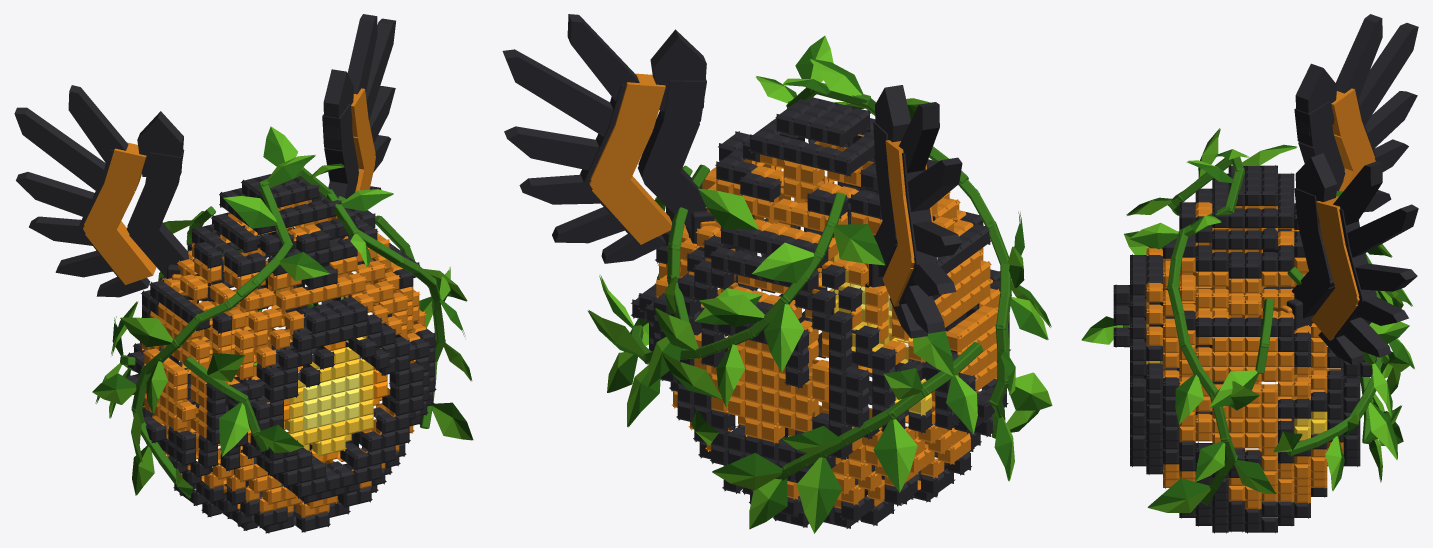
Rendered from winged_vine_egg.obj.
3 renders of one model, left to right at view 1: azimuth 30°, elevation 25°; view 2: azimuth 150°, elevation 25°; view 3: azimuth 270°, elevation 25°, orthographic. The views are drawn at different scales.
Visible parts, largest first — view 1: Armor_CharcoalPlates, Shell_OrangeBlocks, Core_Glow, LeftWing_Spine_Gold, LeftWing_InnerBorder_Charcoal, Vine_TopArch, LeftWing_Blade2, Vine_LeftSide, RightWing_InnerBorder_Charcoal, LeftWing_Blade1_Terminal, LeftWing_Blade3, RightWing_Spine_Gold (+22 smaller); view 2: Armor_CharcoalPlates, Shell_OrangeBlocks, RightWing_Spine_Gold, RightWing_InnerBorder_Charcoal, RightWing_Blade2, Vine_LeftSide, LeftWing_Spine_Gold, Vine_Back, Vine_BackLow, RightWing_Blade3, RightWing_Blade1_Terminal, RightWing_InnerFin (+40 smaller); view 3: Armor_CharcoalPlates, Shell_OrangeBlocks, Vine_TopArch, RightWing_Spine_Gold, RightWing_InnerBorder_Charcoal, LeftWing_Spine_Gold, LeftWing_Blade2, LeftWing_InnerBorder_Charcoal, LeftWing_Blade1_Terminal, RightWing_Blade2, LeftWing_InnerFin, RightWing_Blade1_Terminal (+28 smaller).
Boxes of the visible parts, x1,y1,x2,y2 form: Armor_CharcoalPlates: [125, 174, 436, 533]; Shell_OrangeBlocks: [142, 199, 426, 517]; Core_Glow: [284, 341, 388, 462]; LeftWing_Spine_Gold: [83, 142, 156, 284]; LeftWing_InnerBorder_Charcoal: [126, 149, 189, 278]; Vine_TopArch: [236, 167, 445, 428]; LeftWing_Blade2: [14, 107, 105, 190]; Vine_LeftSide: [131, 257, 279, 483]; RightWing_InnerBorder_Charcoal: [322, 104, 358, 198]; LeftWing_Blade1_Terminal: [68, 85, 128, 162]; LeftWing_Blade3: [16, 172, 94, 216]; RightWing_Spine_Gold: [351, 88, 375, 191]; Armor_CharcoalPlates: [631, 97, 1010, 528]; Shell_OrangeBlocks: [655, 134, 1000, 508]; RightWing_Spine_Gold: [589, 73, 671, 244]; RightWing_InnerBorder_Charcoal: [638, 79, 707, 230]; RightWing_Blade2: [502, 49, 613, 136]; Vine_LeftSide: [929, 155, 1011, 438]; LeftWing_Spine_Gold: [882, 140, 937, 306]; Vine_Back: [631, 192, 845, 364]; Vine_BackLow: [775, 342, 983, 480]; RightWing_Blade3: [504, 126, 599, 170]; RightWing_Blade1_Terminal: [567, 14, 639, 101]; RightWing_InnerFin: [650, 29, 706, 111]; Armor_CharcoalPlates: [1113, 165, 1376, 533]; Shell_OrangeBlocks: [1146, 202, 1343, 517]; Vine_TopArch: [1167, 156, 1244, 505]; RightWing_Spine_Gold: [1311, 196, 1359, 340]; RightWing_InnerBorder_Charcoal: [1292, 188, 1334, 318]; LeftWing_Spine_Gold: [1331, 88, 1375, 191]; LeftWing_Blade2: [1358, 23, 1418, 125]; LeftWing_InnerBorder_Charcoal: [1294, 101, 1345, 191]; LeftWing_Blade1_Terminal: [1336, 14, 1382, 98]; RightWing_Blade2: [1347, 204, 1418, 257]; LeftWing_InnerFin: [1295, 63, 1337, 136]; RightWing_Blade1_Terminal: [1333, 161, 1382, 225].
Size of the model in its own units: 4.37 by 4.46 by 3.29.
